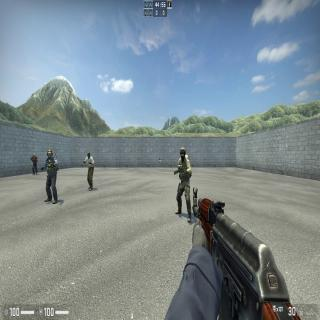CT-Body: (176, 147, 192, 217), (46, 150, 58, 203)
CT-Head: (180, 147, 186, 160), (47, 149, 52, 159)
T-Body: (86, 152, 94, 189), (32, 154, 36, 174)
T-Head: (87, 152, 90, 159), (33, 154, 35, 158)
